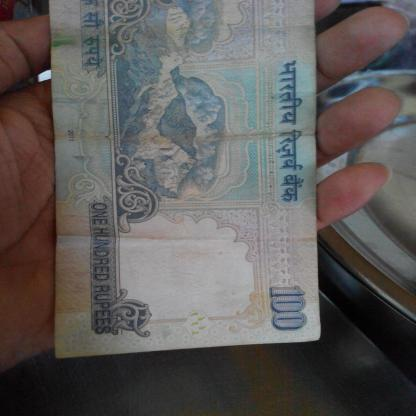Old100Back: (48, 0, 324, 362)
